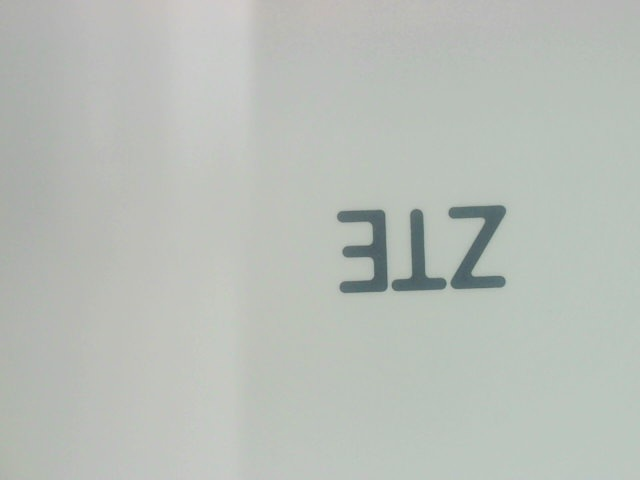AN_ZTELarge: (307, 184, 529, 308)
